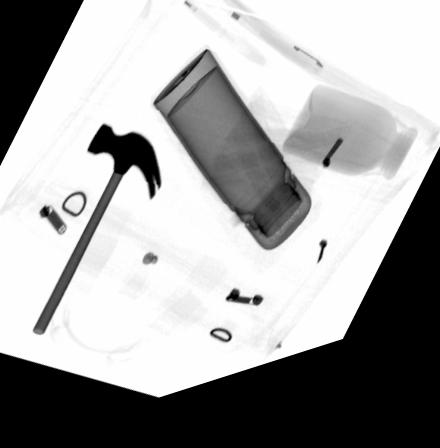Hammer: (31, 128, 162, 338)
